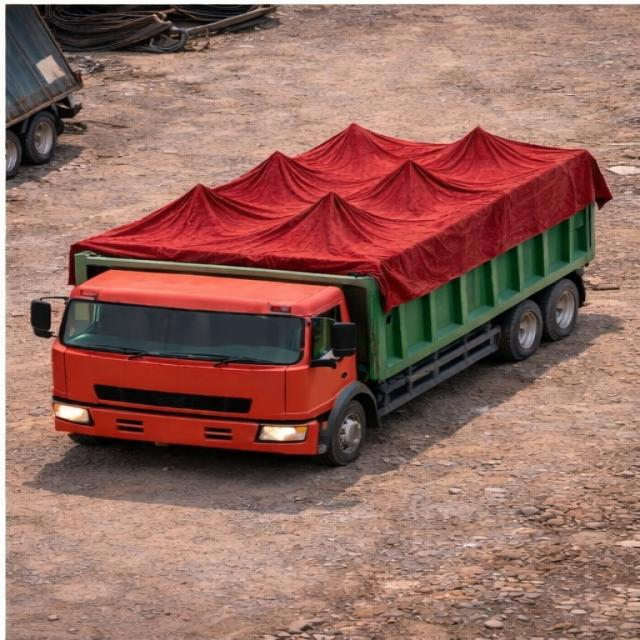Box: (58, 123, 600, 258)
Truck: (25, 95, 639, 462)
